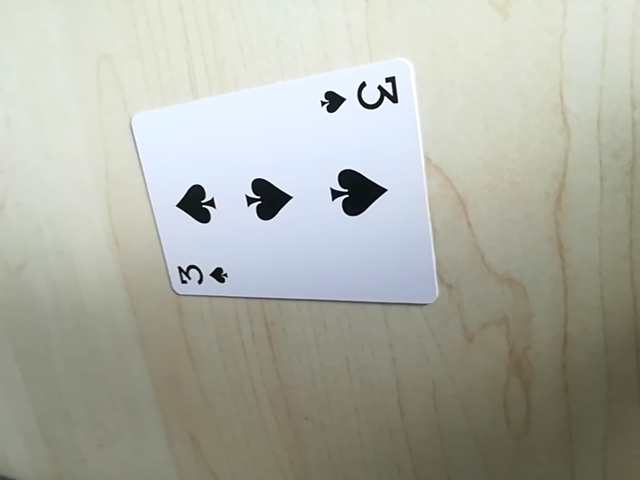ht 3: (319, 69, 405, 120), (169, 259, 231, 294)
